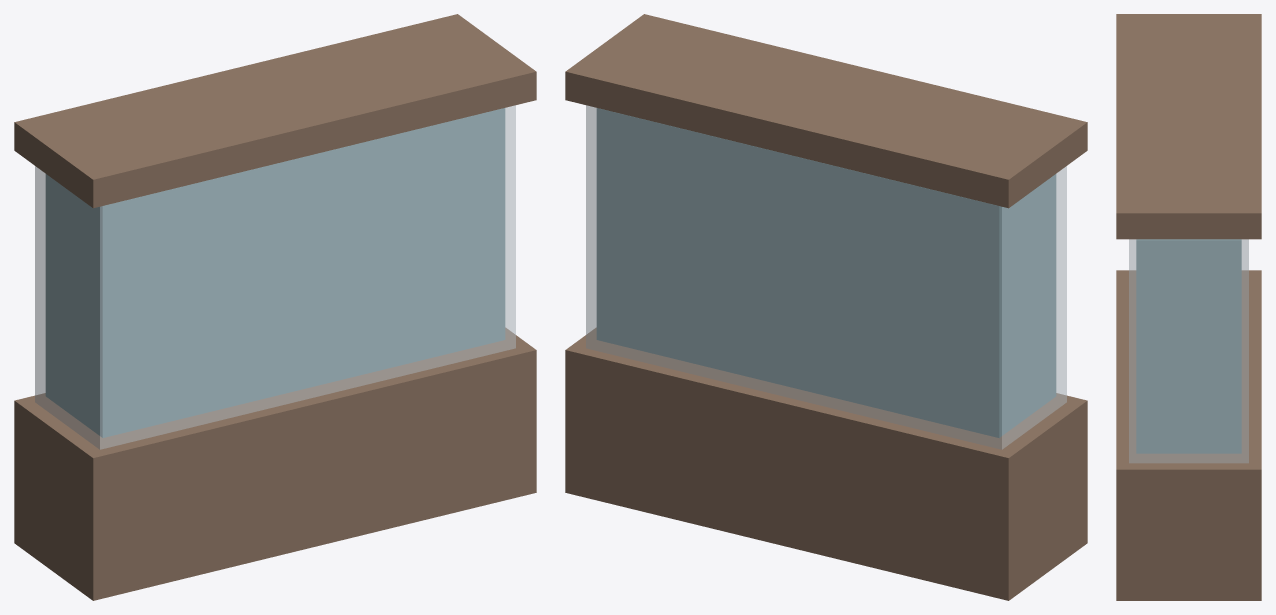
Rendered from casino-floor-and-back-rooms-lobby-aquarium-c2ae7150__27056.glb.
The picture shows the model from 3 angles, left to right: view 1: azimuth 30°, elevation 25°; view 2: azimuth 150°, elevation 25°; view 3: azimuth 270°, elevation 25°; orthographic projection. The views are drawn at different scales.
Parts seen in each view (by area): view 1: lobby-aquarium; view 2: lobby-aquarium; view 3: lobby-aquarium.
Part boxes in pixels (x1,y1,x2,y2): lobby-aquarium: [14, 14, 536, 600]; lobby-aquarium: [565, 14, 1087, 600]; lobby-aquarium: [1116, 14, 1261, 600].
Bounding box in the file's own units: 2.6 × 2.36 × 0.7999.
